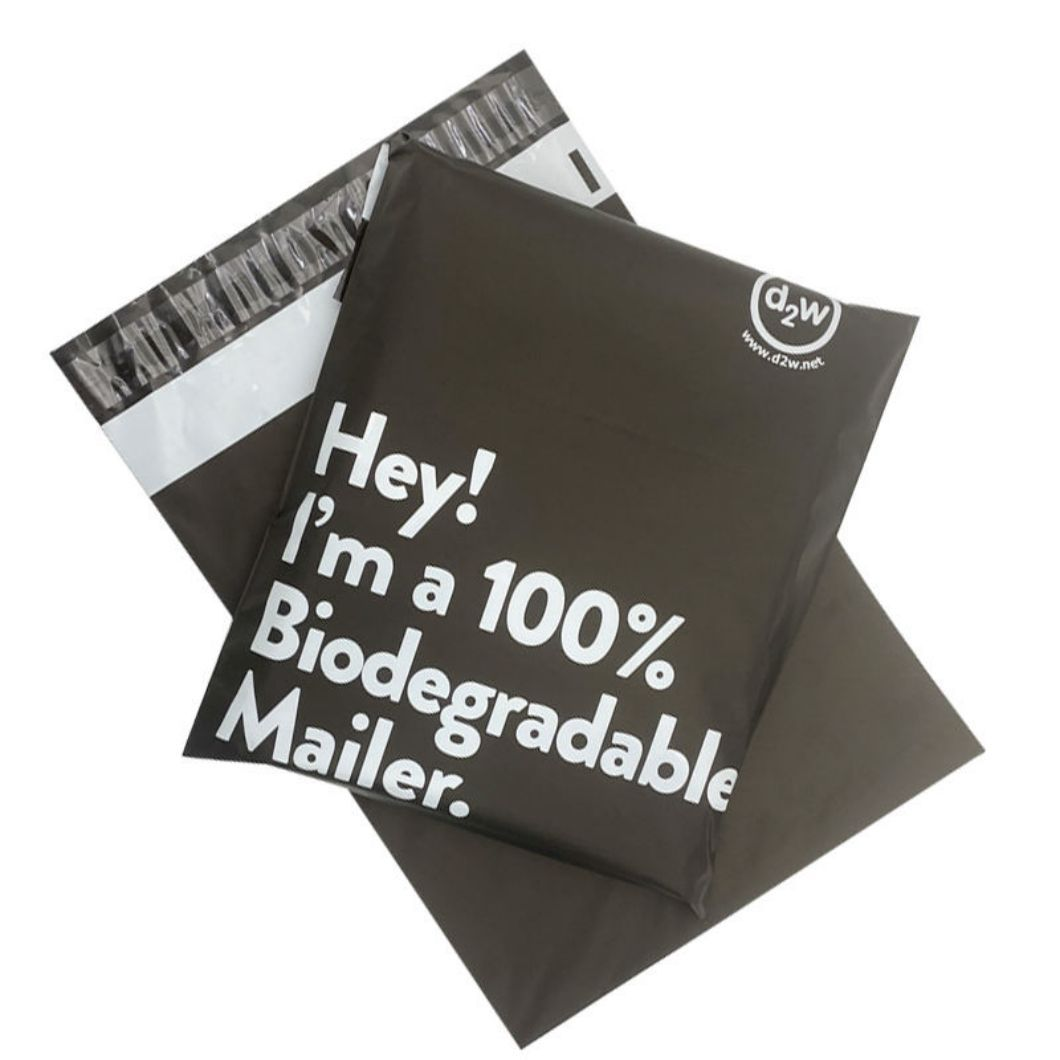Parcel: (52, 55, 989, 1052)
